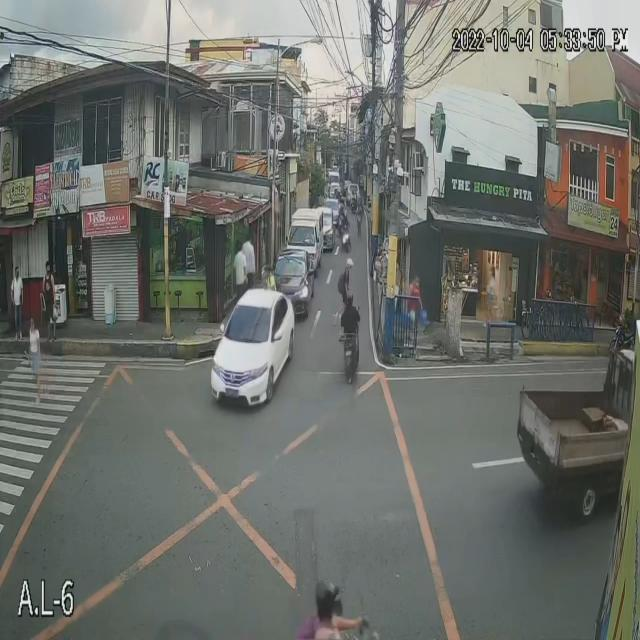invalid: (314, 581, 341, 607)
